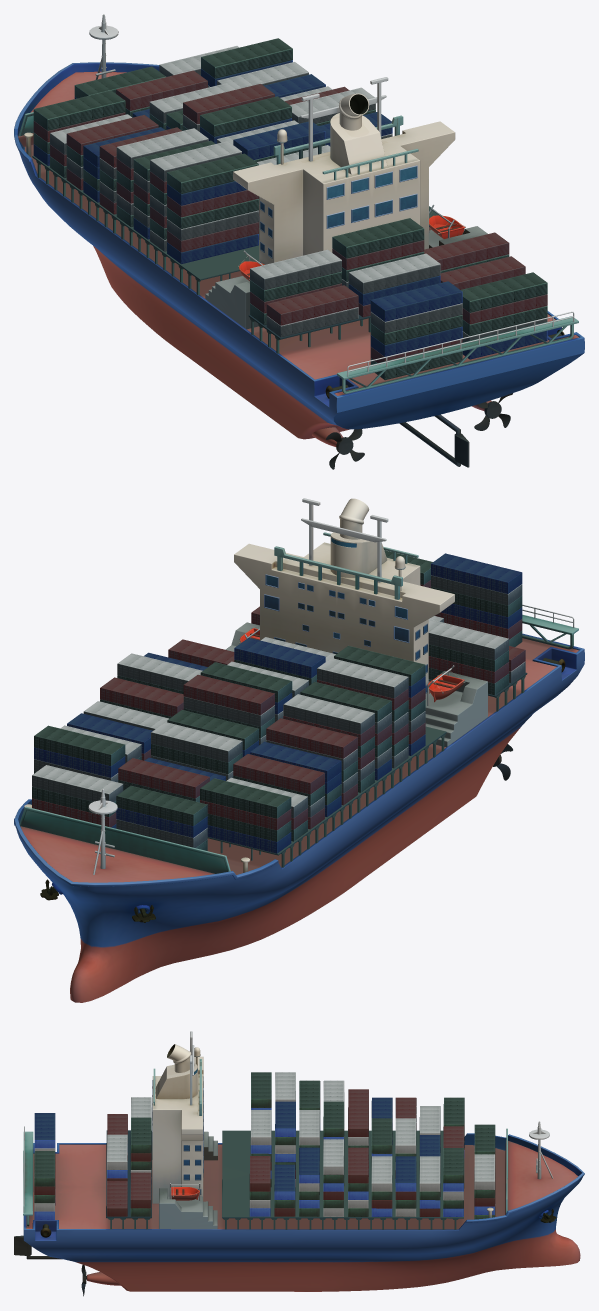
The model's file is OceanFreighterOriginal.glb.
The picture shows the model from 3 angles, top to bottom: view 1: azimuth 30°, elevation 25°; view 2: azimuth 150°, elevation 25°; view 3: azimuth 270°, elevation 25°; orthographic projection. The views are drawn at different scales.
Visible parts, largest first — view 1: ocean_freighter.1; view 2: ocean_freighter.1; view 3: ocean_freighter.1.
Boxes of the visible parts, box(x1,y1,x2,y2) form: ocean_freighter.1: box(14, 14, 584, 469); ocean_freighter.1: box(14, 498, 584, 1002); ocean_freighter.1: box(14, 1031, 584, 1296).
Bounding box in the file's own units: 24.73 × 29.05 × 67.8.
Materials: 1 (1 with a texture image).
